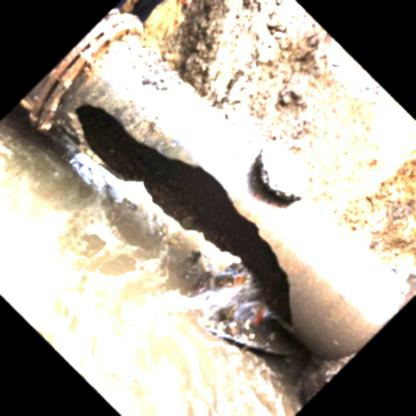burst: (75, 106, 307, 334)
